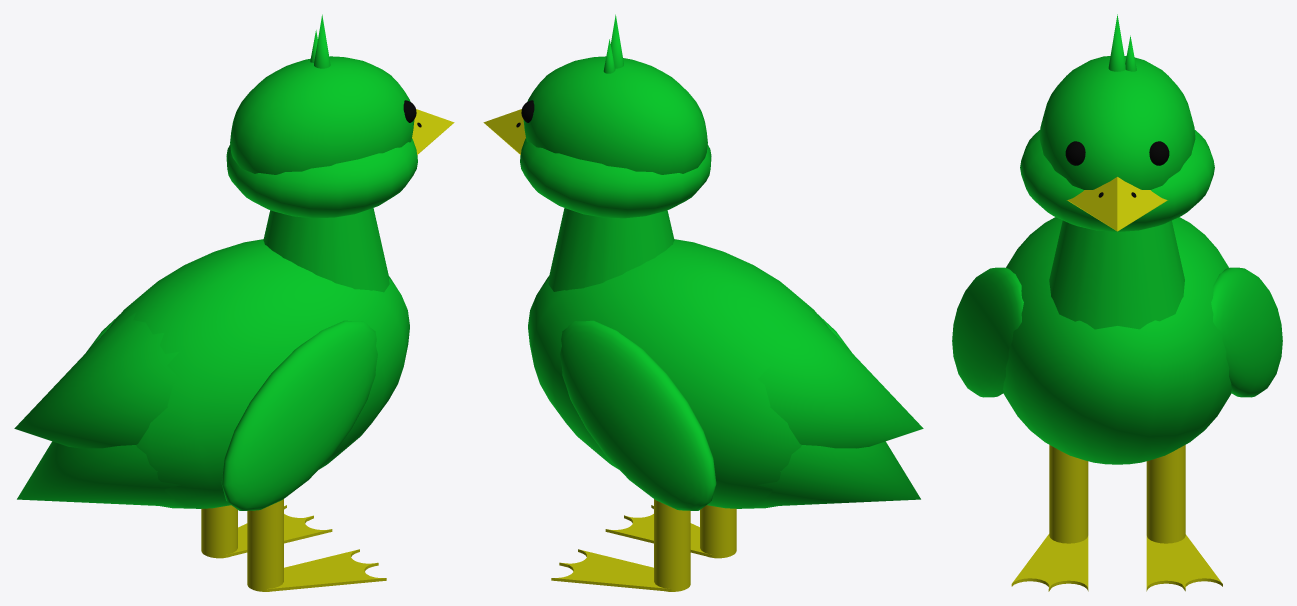
The model's file is GrassBirdModelFBX.fbx.
3 views of the same model, side by side, from view 1: azimuth 30°, elevation 25°; view 2: azimuth 150°, elevation 25°; view 3: azimuth 270°, elevation 25° (orthographic). The views are drawn at different scales.
Parts seen in each view (by area): view 1: pSphere1, pSphere4, pSphere8, pCone9, pSphere2, pCone8, pCone3, pCylinder2, pCylinder3, pCube5, pCube6, pCone4 (+1 smaller); view 2: pSphere1, pSphere3, pSphere8, pCone9, pSphere2, pCone8, pCone3, pCylinder3, pCylinder2, pCube7, pCube8, pCone4 (+1 smaller); view 3: pSphere1, pSphere8, pCone3, pSphere3, pSphere4, pSphere2, pCylinder2, pCylinder3, pCone4, pCube5, pCube7, pCube8 (+2 smaller).
Boxes of the visible parts, left/top/right/bottom form: pSphere1: left=109, top=239, right=409, bottom=508; pSphere4: left=221, top=320, right=377, bottom=510; pSphere8: left=230, top=56, right=414, bottom=174; pCone9: left=14, top=312, right=179, bottom=448; pSphere2: left=226, top=138, right=417, bottom=218; pCone8: left=17, top=441, right=198, bottom=505; pCone3: left=263, top=208, right=389, bottom=292; pCylinder2: left=247, top=499, right=283, bottom=591; pCylinder3: left=201, top=505, right=237, bottom=558; pCube5: left=272, top=549, right=377, bottom=588; pCube6: left=267, top=563, right=386, bottom=591; pCone4: left=412, top=109, right=453, bottom=154; pSphere1: left=528, top=239, right=828, bottom=508; pSphere3: left=560, top=320, right=716, bottom=510; pSphere8: left=523, top=56, right=707, bottom=174; pCone9: left=758, top=312, right=923, bottom=448; pSphere2: left=520, top=138, right=711, bottom=218; pCone8: left=739, top=441, right=920, bottom=505; pCone3: left=548, top=208, right=674, bottom=291; pCylinder3: left=654, top=499, right=690, bottom=591; pCylinder2: left=700, top=505, right=736, bottom=558; pCube7: left=560, top=549, right=665, bottom=590; pCube8: left=551, top=562, right=671, bottom=591; pCone4: left=484, top=109, right=525, bottom=154; pSphere1: left=1003, top=217, right=1231, bottom=464; pSphere8: left=1039, top=56, right=1195, bottom=189; pCone3: left=1049, top=220, right=1184, bottom=329; pSphere3: left=1211, top=267, right=1282, bottom=397; pSphere4: left=952, top=267, right=1023, bottom=397; pSphere2: left=1020, top=130, right=1214, bottom=231; pCylinder2: left=1049, top=445, right=1088, bottom=543; pCylinder3: left=1146, top=445, right=1185, bottom=543; pCone4: left=1068, top=177, right=1166, bottom=231; pCube5: left=1049, top=536, right=1088, bottom=591; pCube7: left=1146, top=536, right=1185, bottom=591; pCube8: left=1165, top=534, right=1222, bottom=591.
Size of the model in its own units: 4.15 by 4.81 by 2.55.
